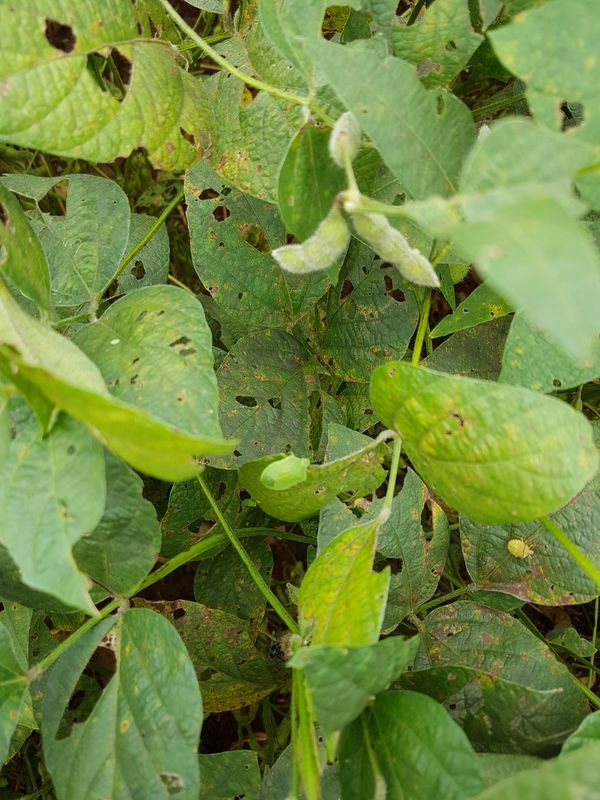Euschistus_heros_ninfa: (496, 525, 544, 575)
Nezara_viridula_adulto: (252, 440, 326, 507)
